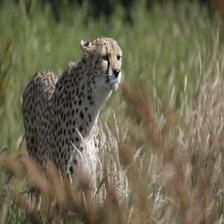Cheetah: (20, 35, 124, 206)
